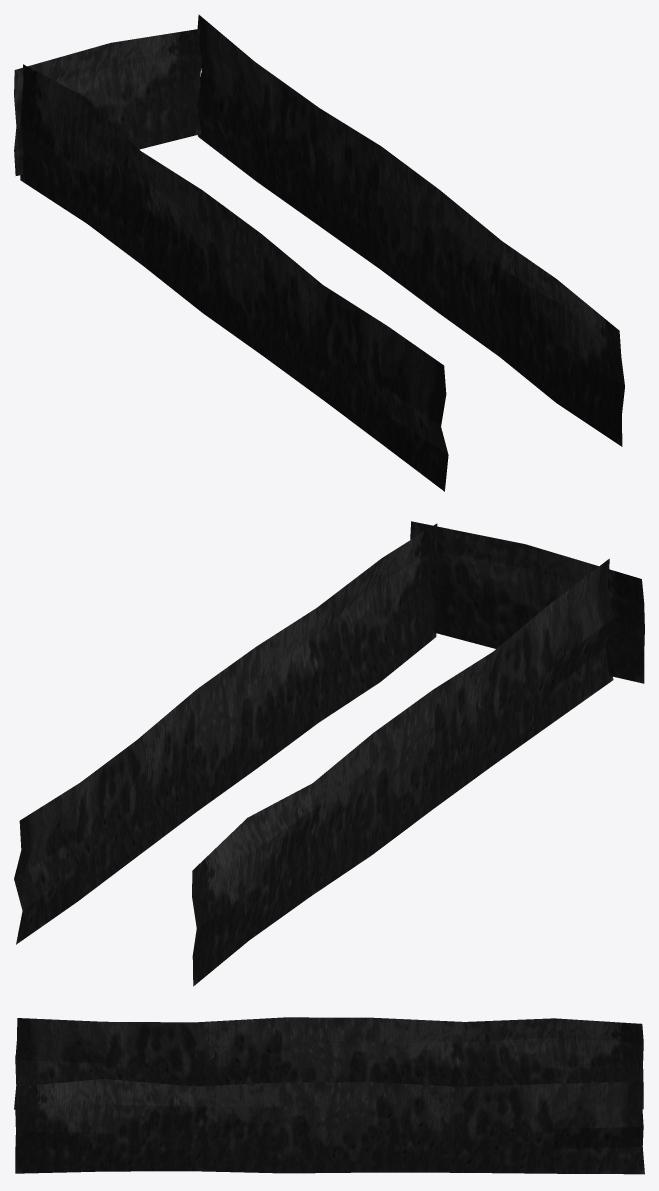
File: dungeonNormal.glb
The picture shows the model from 3 angles, top to bottom: view 1: azimuth 30°, elevation 25°; view 2: azimuth 150°, elevation 25°; view 3: azimuth 270°, elevation 25°; orthographic projection. The views are drawn at different scales.
Visible parts, largest first — view 1: walls.001, walls.003, walls.002; view 2: walls.001, walls.003, walls.004; view 3: walls.001, walls.003.
Boxes of the visible parts, <box> form: walls.001: <box>197,14,624,446</box>; walls.003: <box>20,64,448,491</box>; walls.002: <box>14,29,201,175</box>; walls.001: <box>14,523,437,944</box>; walls.003: <box>192,558,614,986</box>; walls.004: <box>410,521,644,683</box>; walls.001: <box>15,1078,644,1174</box>; walls.003: <box>14,1017,643,1109</box>.
Bounding box in the file's own units: 70.7 × 35.89 × 219.
Materials: 1 (1 with a texture image).
